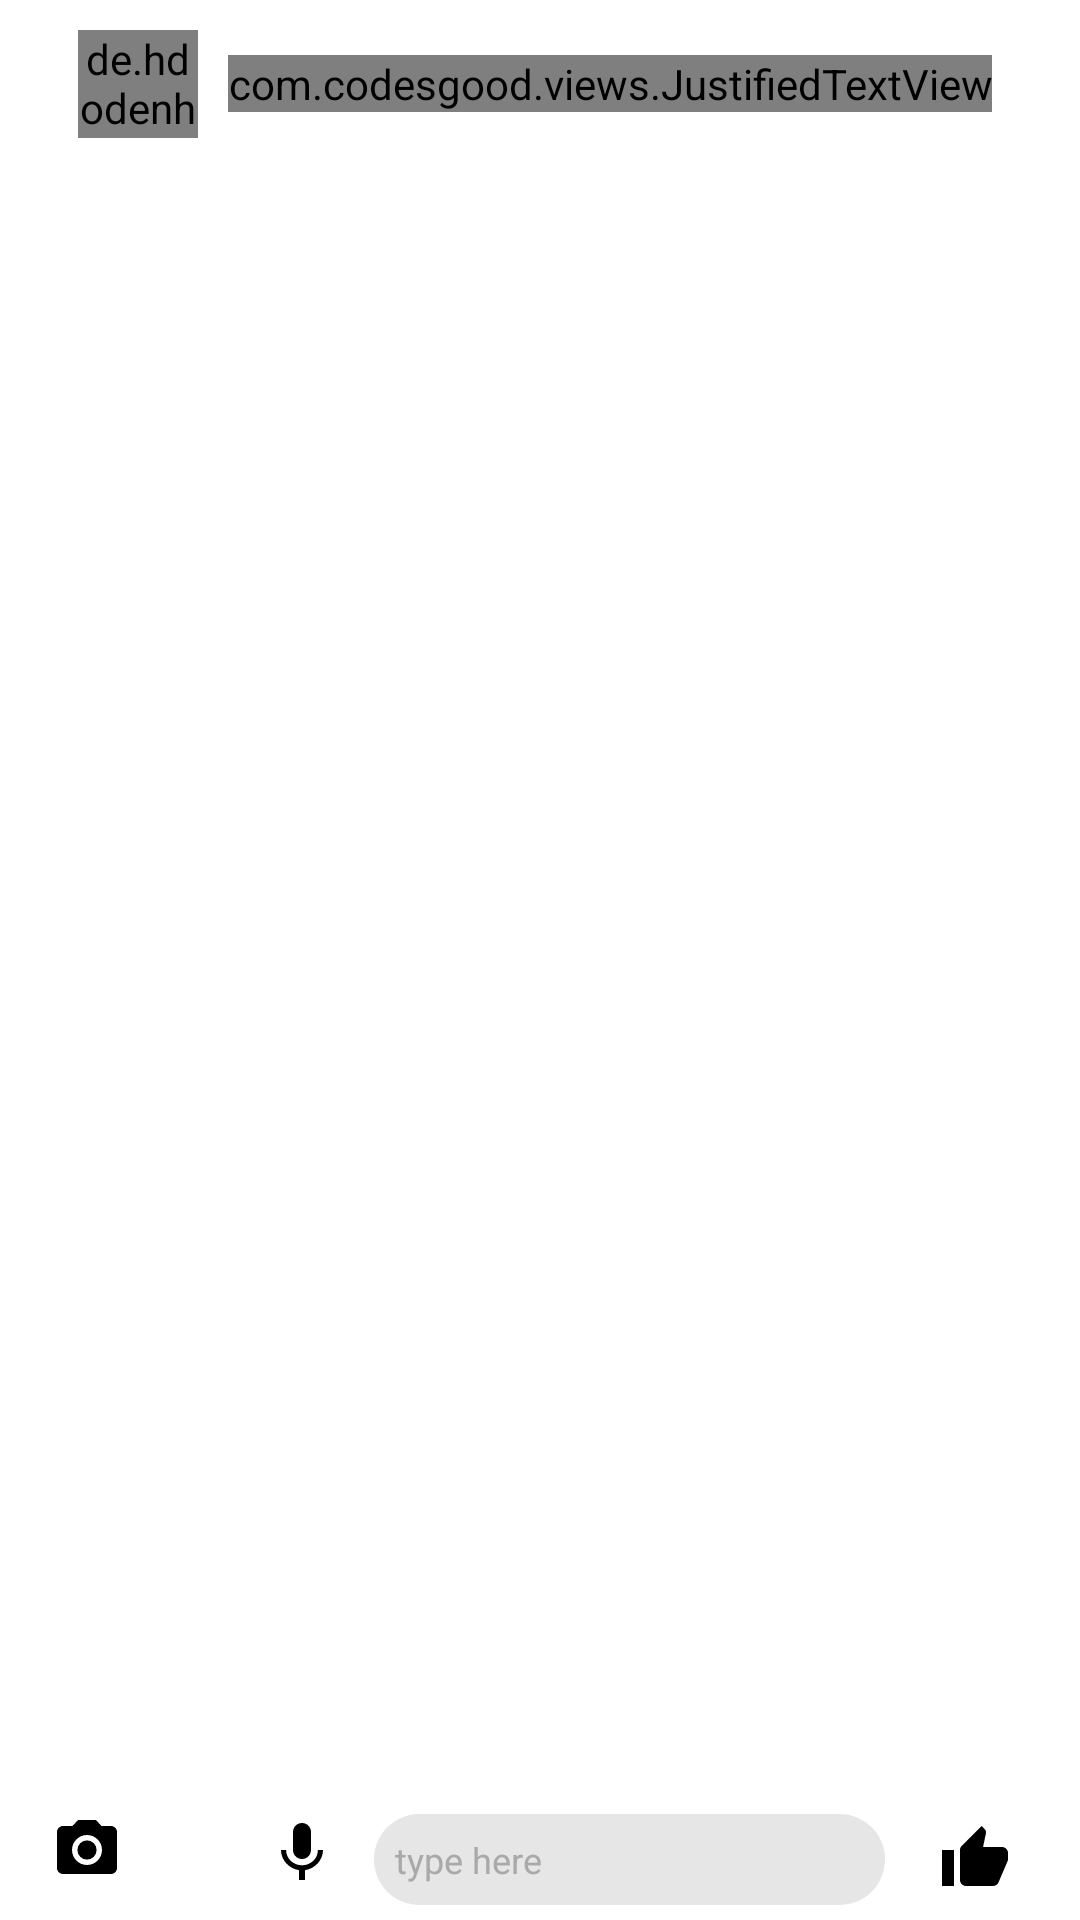

Screen size 1080x1920. Icon name, then its center in pixels as [x,y]:
keyboard voice: [302,1851]
like: [975,1856]
photo camera: [87,1847]
